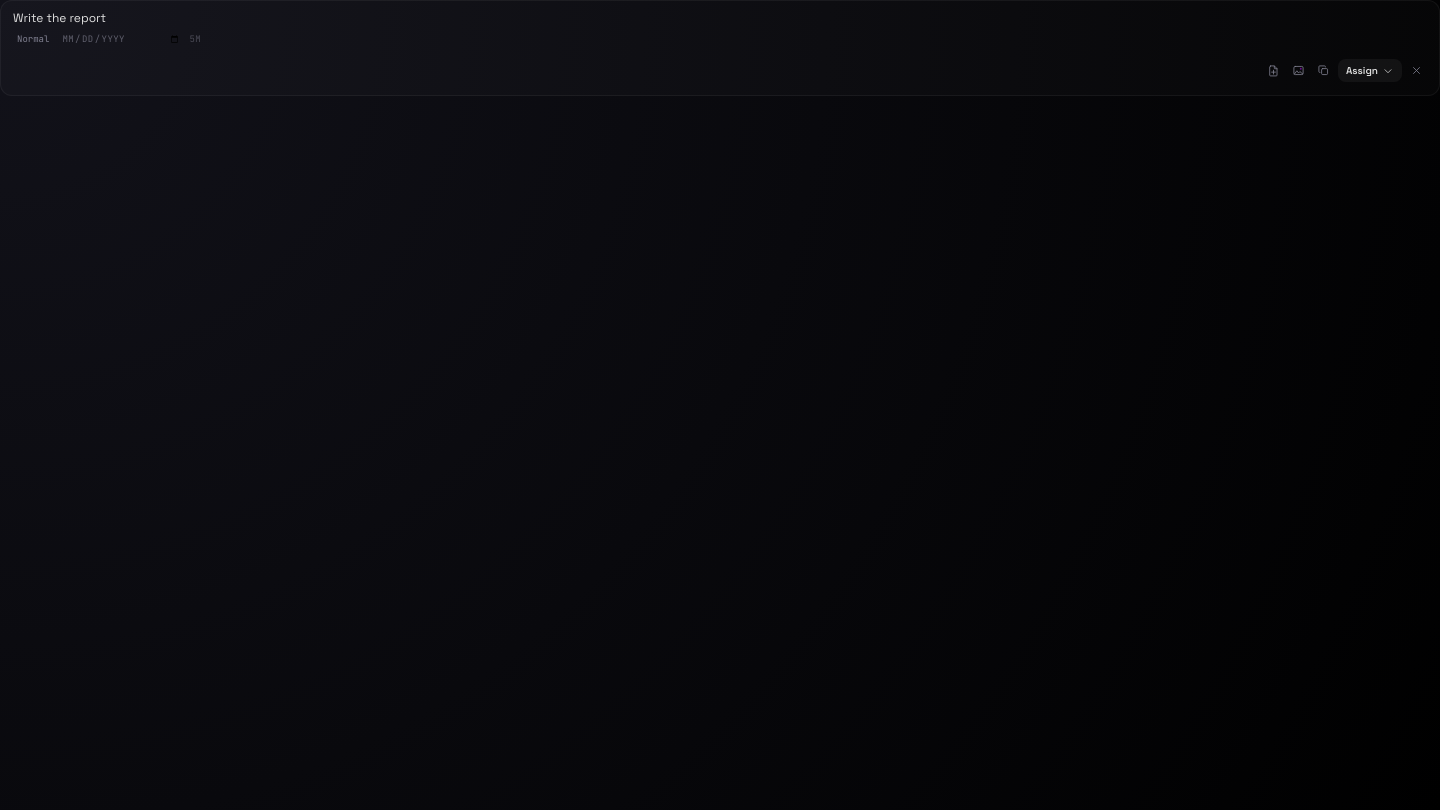
it: InboxItemRow › inline title editing › cancels the edit on Escape without updating
The width and height of the screenshot is (1440, 810).
Double-click the button "Write the report" at (60, 18), box top-left (13, 9), bottom-right (1427, 27)
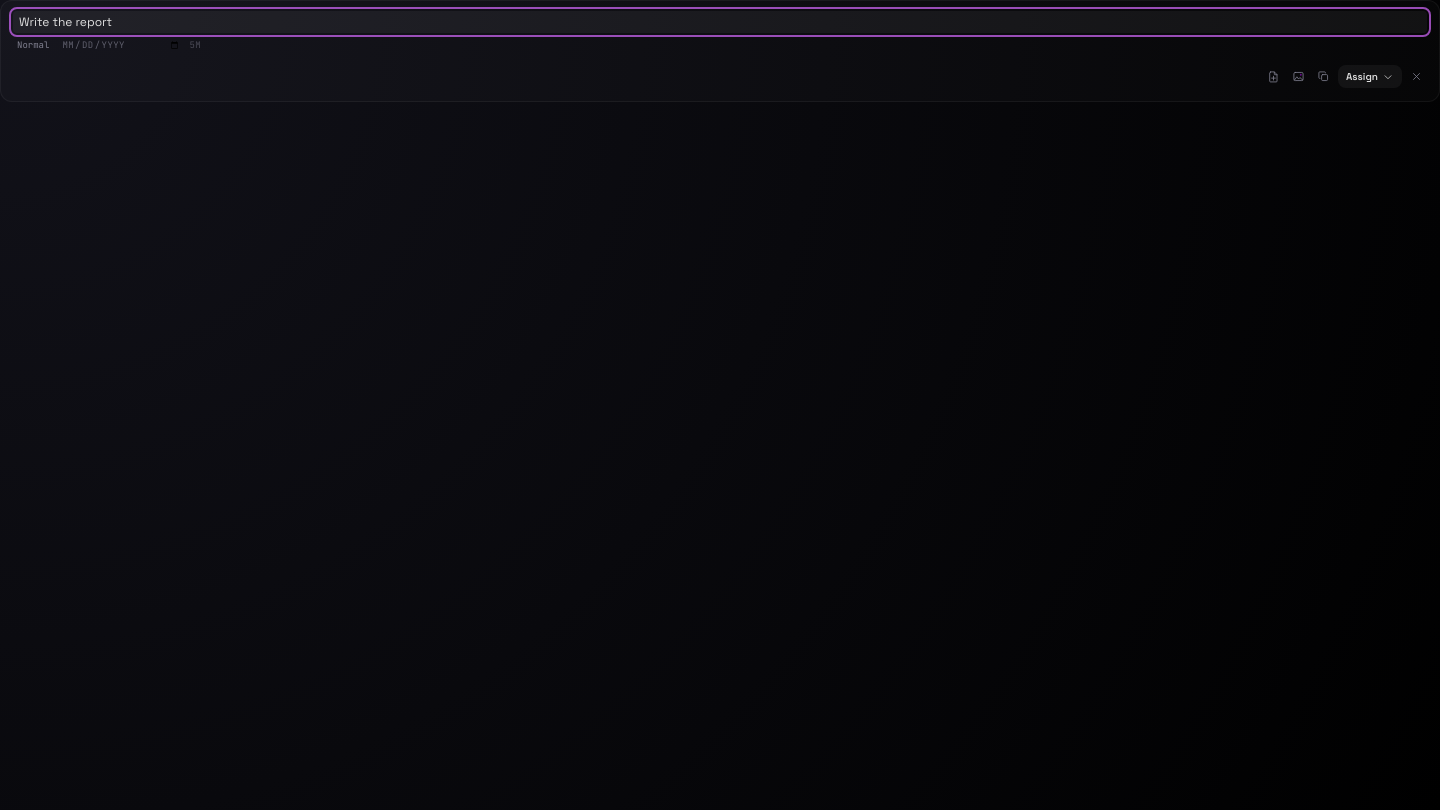
Type " more" into the field showing "Write the report" at (720, 22), box top-left (13, 11), bottom-right (1427, 33)
Then press Escape
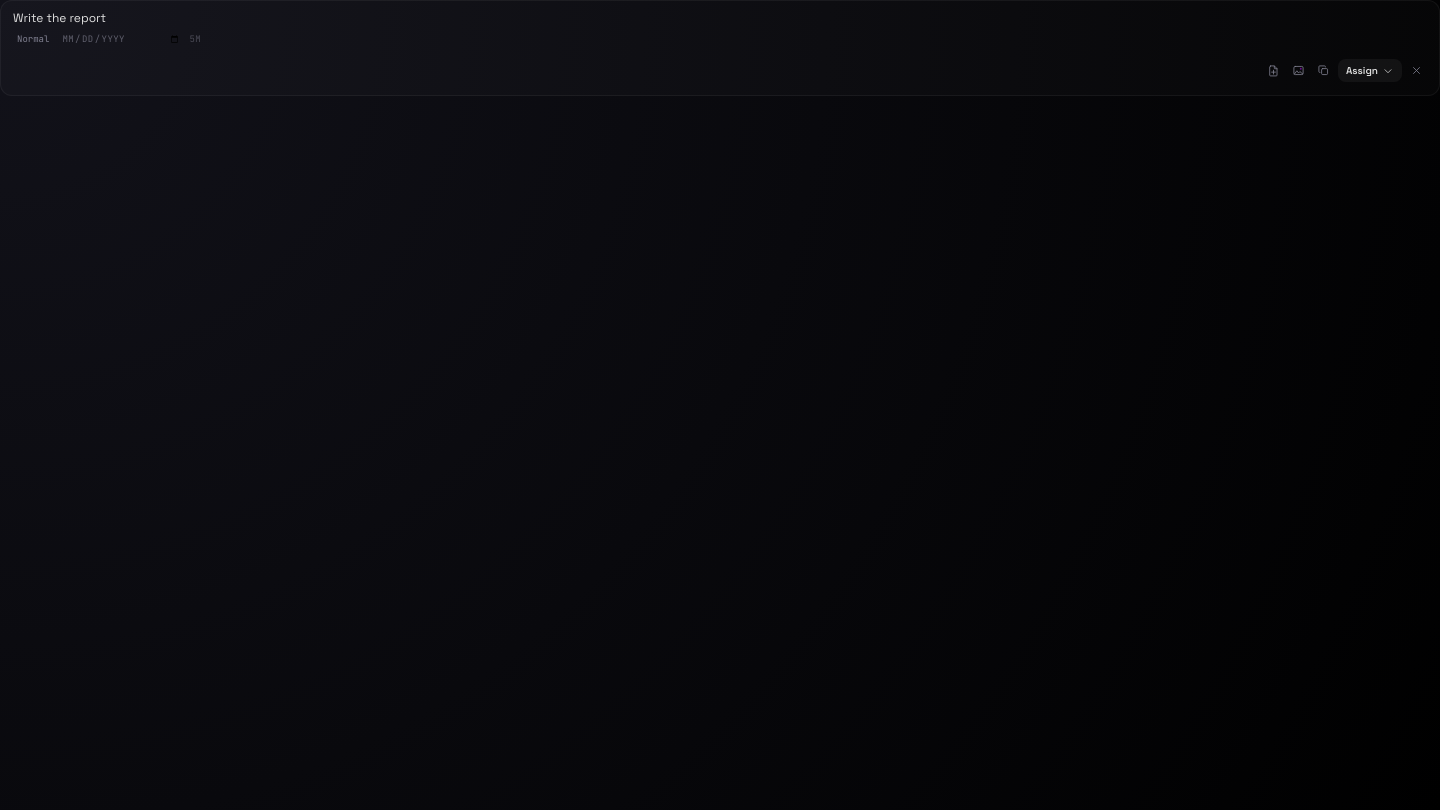
Expected: the button "Write the report" is shown, top-left (13, 9), bottom-right (1427, 27)
